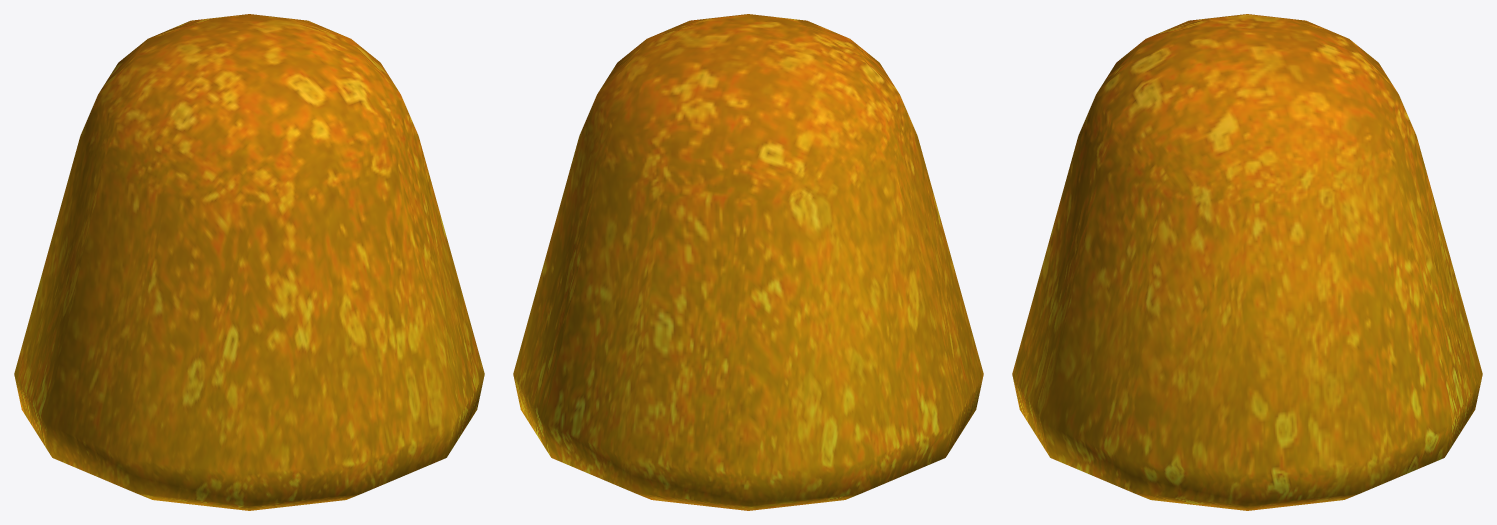
Rendered from CHP_MOD_Marmalade_yellow.fbx.
3 views of the same model, side by side, from view 1: azimuth 30°, elevation 25°; view 2: azimuth 150°, elevation 25°; view 3: azimuth 270°, elevation 25° (orthographic).
Visible parts, largest first — view 1: CHP_MOD_Marmalade_yellow; view 2: CHP_MOD_Marmalade_yellow; view 3: CHP_MOD_Marmalade_yellow.
Part boxes in pixels (box(x1,y1,x2,y2)): CHP_MOD_Marmalade_yellow: box(14, 14, 484, 510); CHP_MOD_Marmalade_yellow: box(513, 14, 983, 510); CHP_MOD_Marmalade_yellow: box(1012, 14, 1482, 510).
Size of the model in its own units: 0.5048 by 0.4654 by 0.5048.
